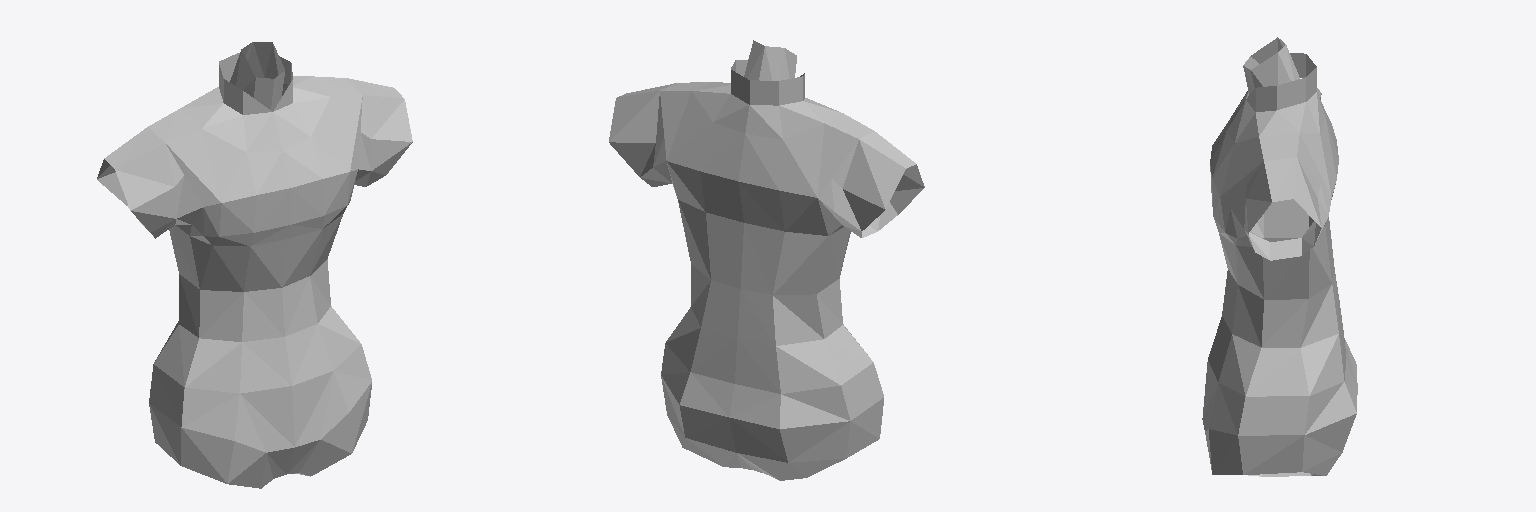
The model's file is police_body.obj.
3 renders of one model, left to right at view 1: azimuth 30°, elevation 25°; view 2: azimuth 150°, elevation 25°; view 3: azimuth 270°, elevation 25°, orthographic.
Parts seen in each view (by area): view 1: Object002, Object001; view 2: Object002, Object001; view 3: Object001, Object002.
Boxes of the visible parts, x1,y1,x2,y2 form: Object002: [97, 42, 294, 488]; Object001: [238, 42, 412, 476]; Object002: [729, 46, 924, 480]; Object001: [609, 40, 764, 469]; Object001: [1202, 44, 1357, 476]; Object002: [1210, 37, 1357, 388].
Size of the model in its own units: 19.32 by 26.97 by 8.95.